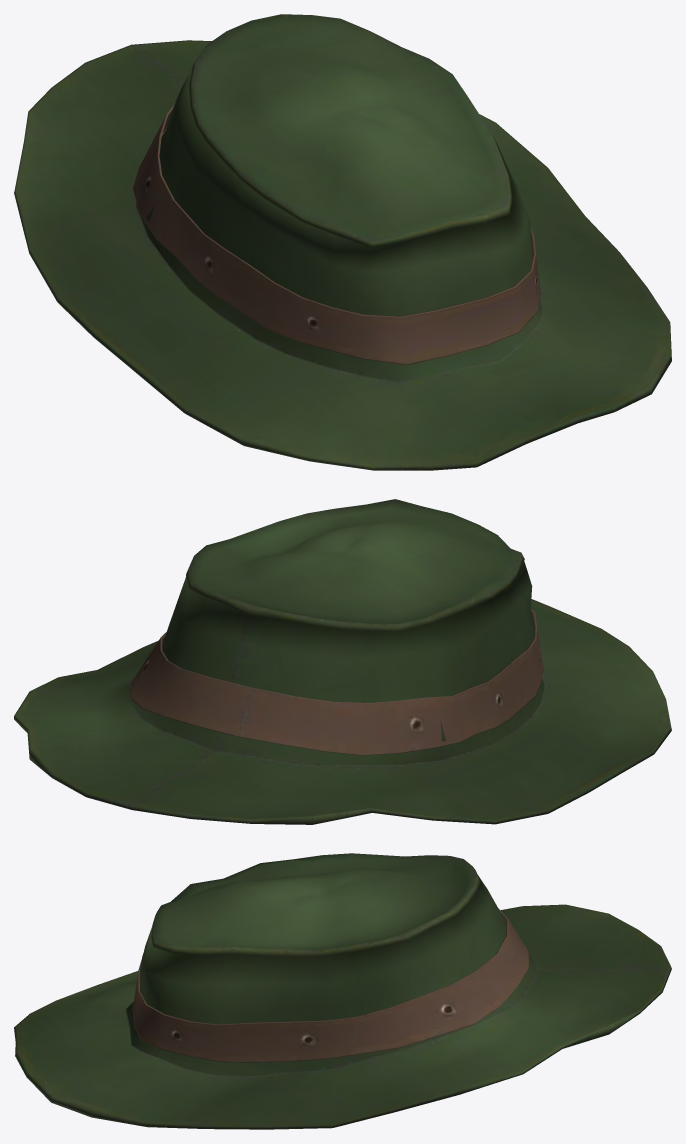
File: mindfront-fishing-hat-01.glb
The picture shows the model from 3 angles, top to bottom: view 1: azimuth 30°, elevation 25°; view 2: azimuth 150°, elevation 25°; view 3: azimuth 270°, elevation 25°; orthographic projection. The views are drawn at different scales.
Parts seen in each view (by area): view 1: Human.mindfront_fishing_hat_01; view 2: Human.mindfront_fishing_hat_01; view 3: Human.mindfront_fishing_hat_01.
Part boxes in pixels (x1=…): Human.mindfront_fishing_hat_01: x1=14, y1=14, x2=671, y2=470; Human.mindfront_fishing_hat_01: x1=14, y1=499, x2=671, y2=824; Human.mindfront_fishing_hat_01: x1=14, y1=853, x2=671, y2=1129.
Bounding box in the file's own units: 0.2517 × 0.1111 × 0.3608.
1 material, 1 textured.
